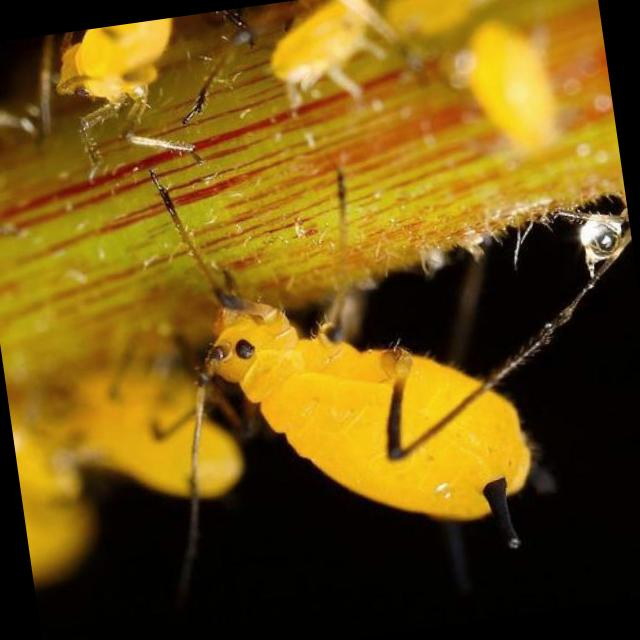aphid: (122, 131, 624, 596)
